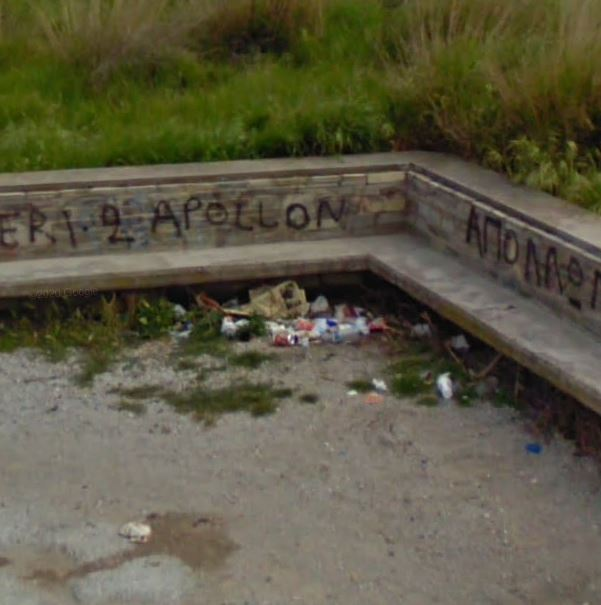trash: (168, 276, 397, 348), (406, 306, 475, 358), (349, 373, 402, 406), (432, 364, 466, 401), (514, 436, 555, 460)
